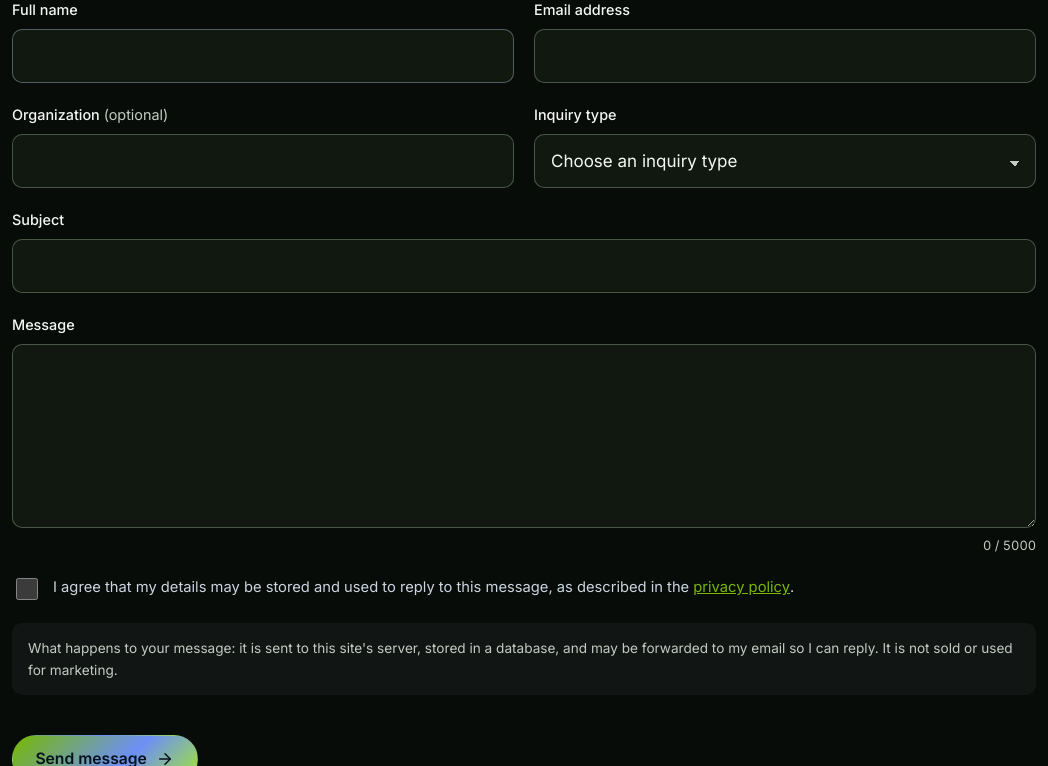
Scenario: ContactForm submission › keeps the visitor's input and shows a helpful alert after a server failure
The image size is (1048, 766).
Type "  Alex Morgan " into the field labelled "Full name". click: (263, 56)
box: [12,29,514,83]
Type "alex@example.com" into the field labelled "Email address". click: (785, 56)
box: [534,29,1036,83]
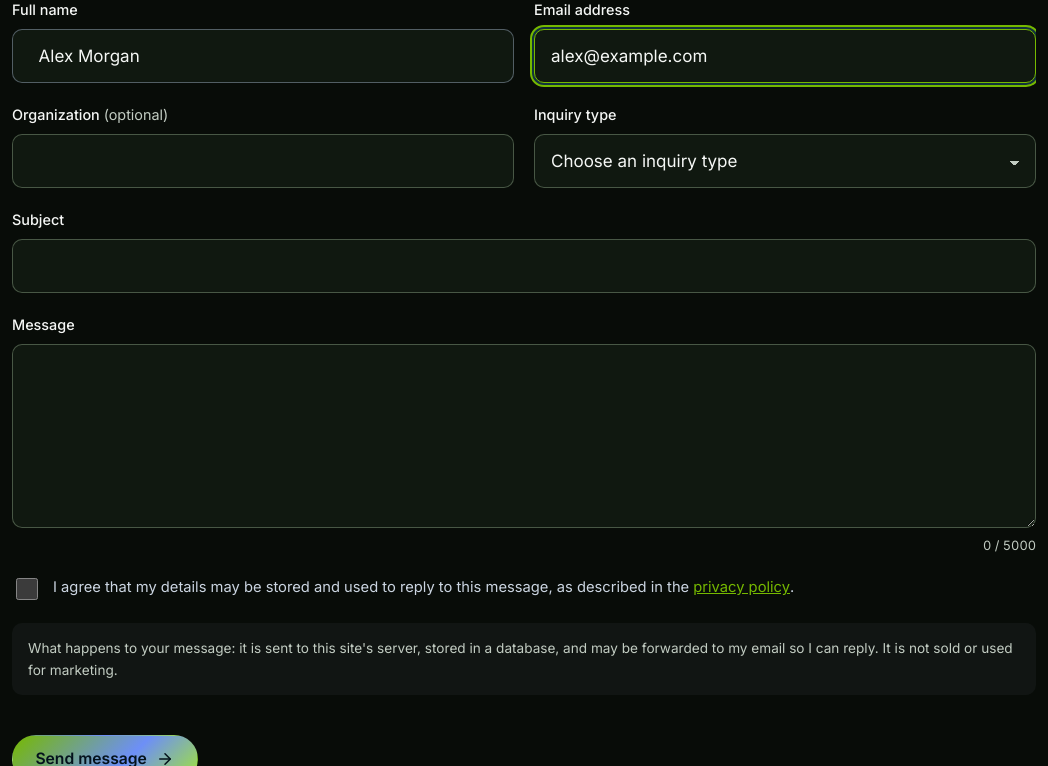
Select "Collaboration" in the dropdown labelled "Inquiry type". click: (785, 161)
box: [534,134,1036,188]
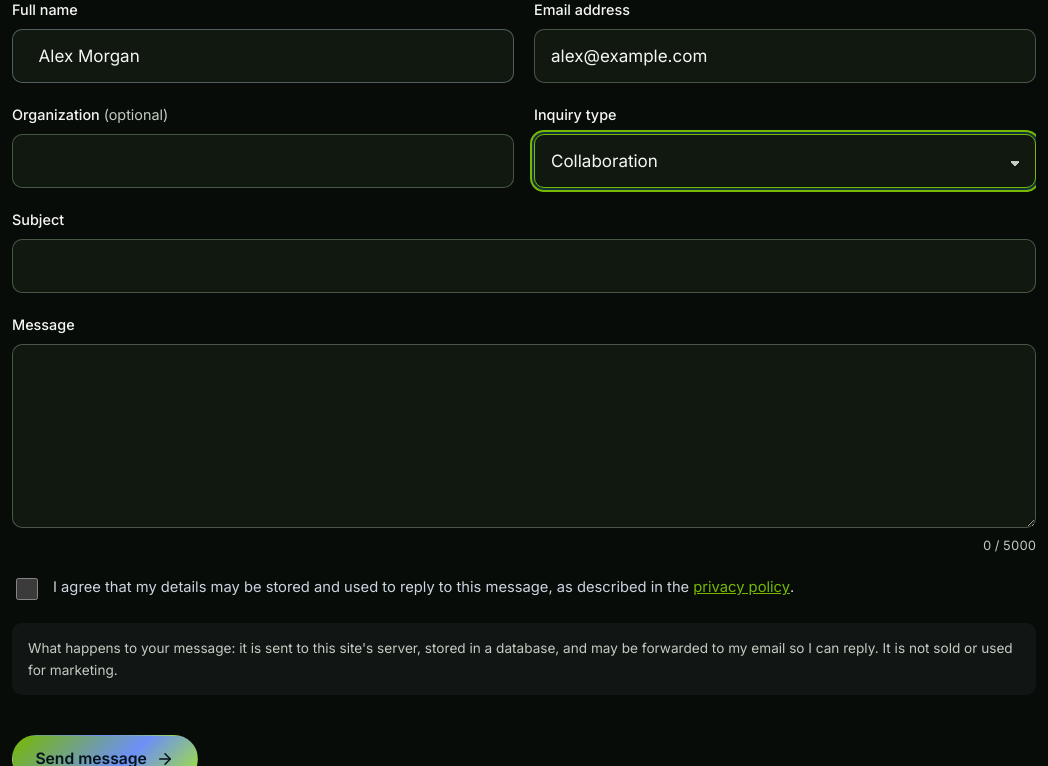
Type "Working together" into the field labelled "Subject". click: (524, 266)
box: [12,239,1036,293]
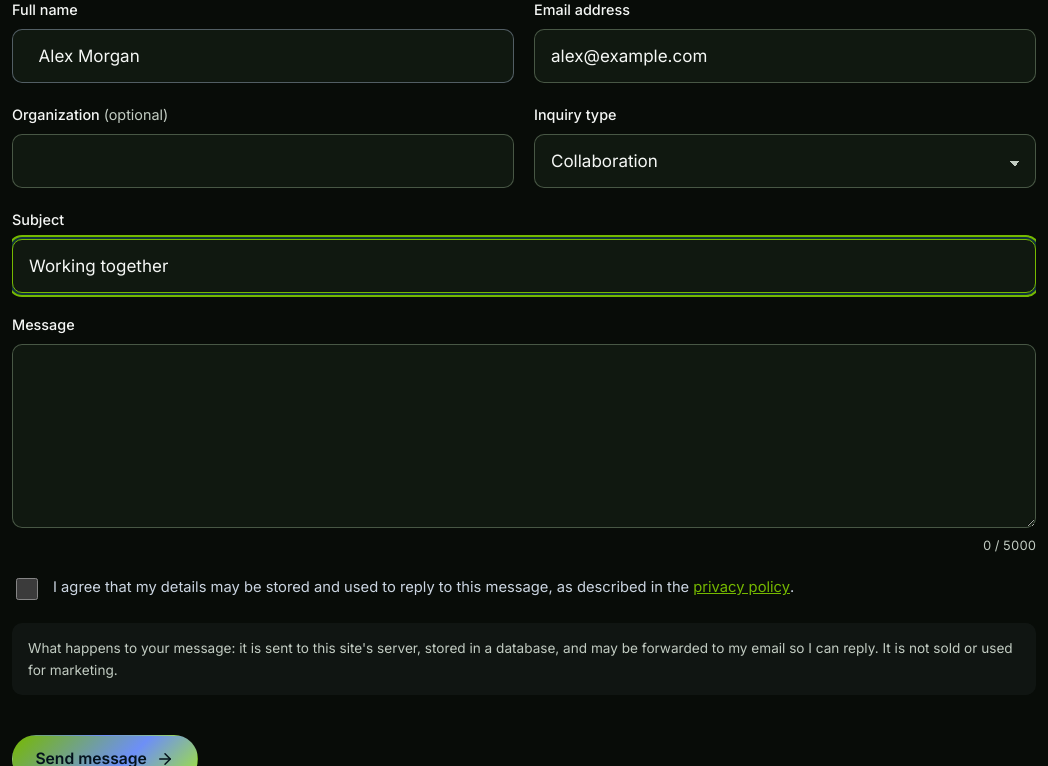
Type "I would like to discuss a collaboration." into the text box labelled "Message". click: (524, 436)
box: [12,344,1036,528]
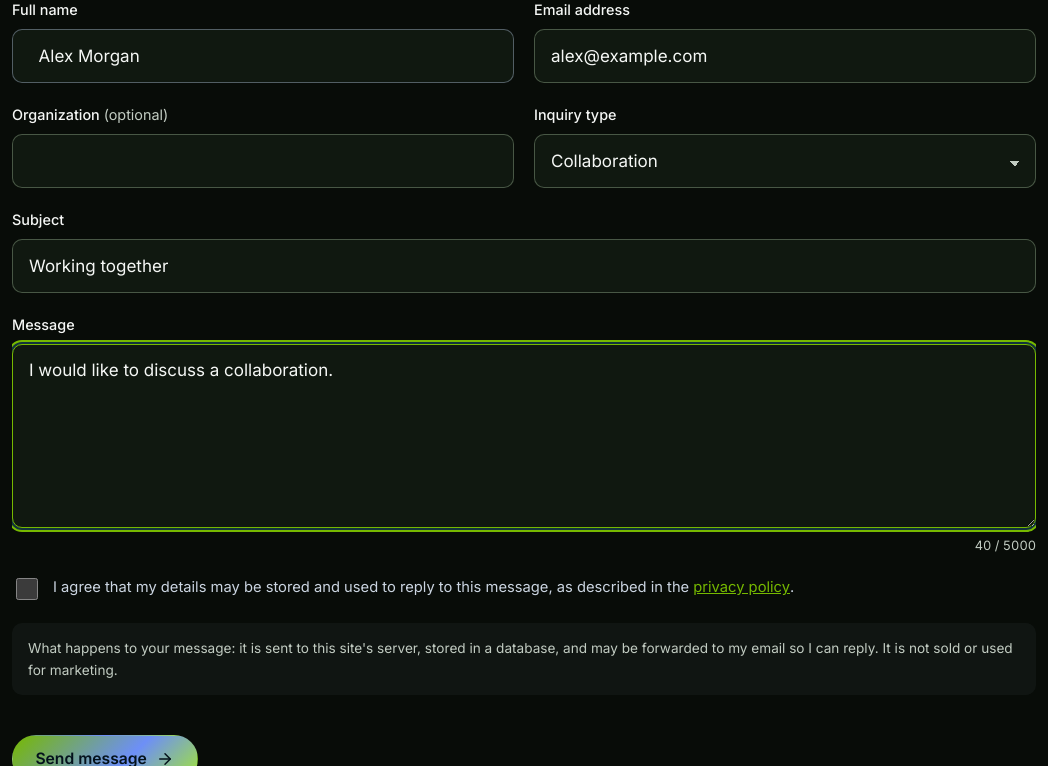
Click the checkbox labelled "I agree". click: (27, 589)
box: [16,578,38,600]
(page scrolled)
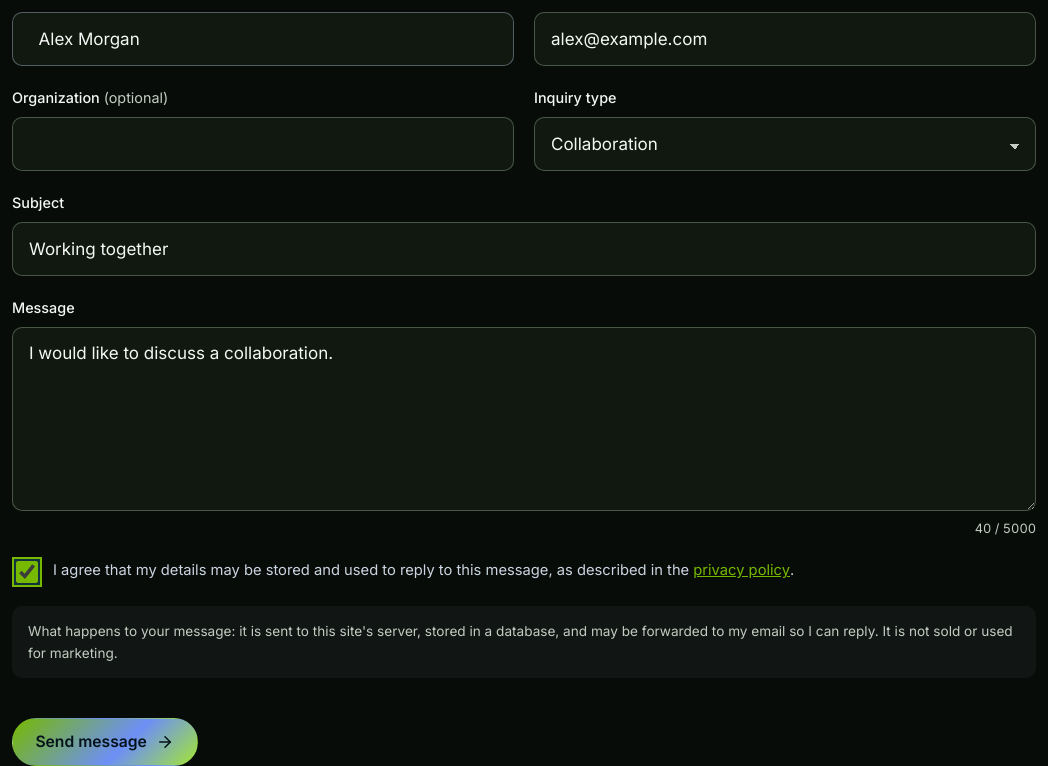
Click the button "Send message". click: (105, 742)
box: [12,718,198,765]
(page scrolled)
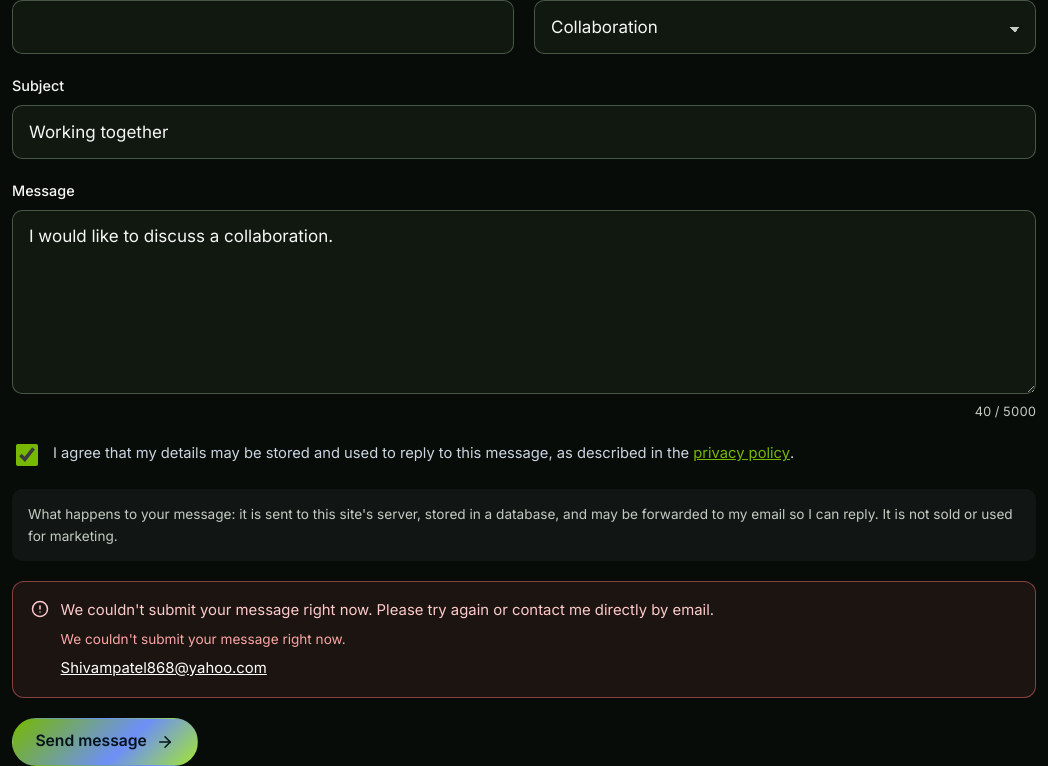
Check: the message shows "couldn.t submit your message right now", box [61,601,714,619]
Check: the message shows "Shivampatel868@yahoo.com", box [61,659,267,677]
